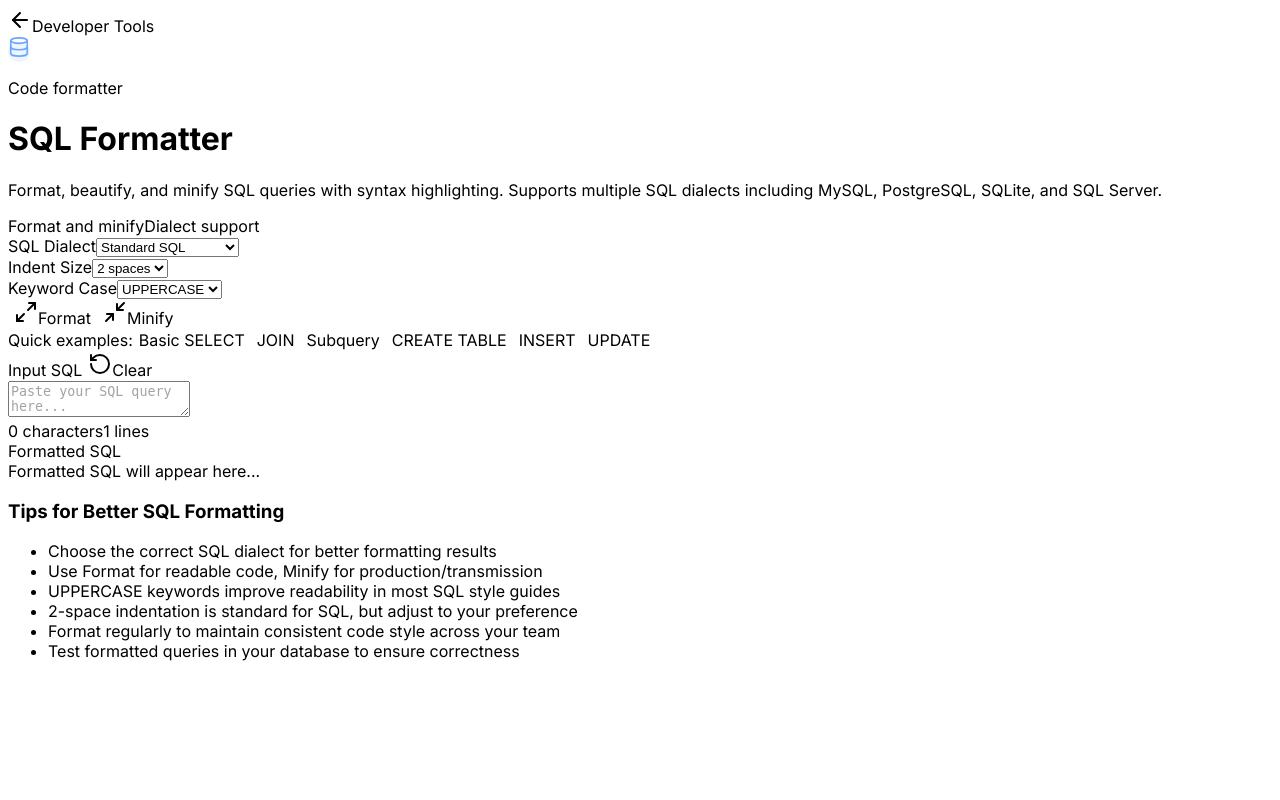
Test: SQLFormatterPage › Minify SQL › displays error message for empty minify input
This screenshot has width=1280, height=800.
Click the button "Minify": [138, 314] box [97,299,180,329]
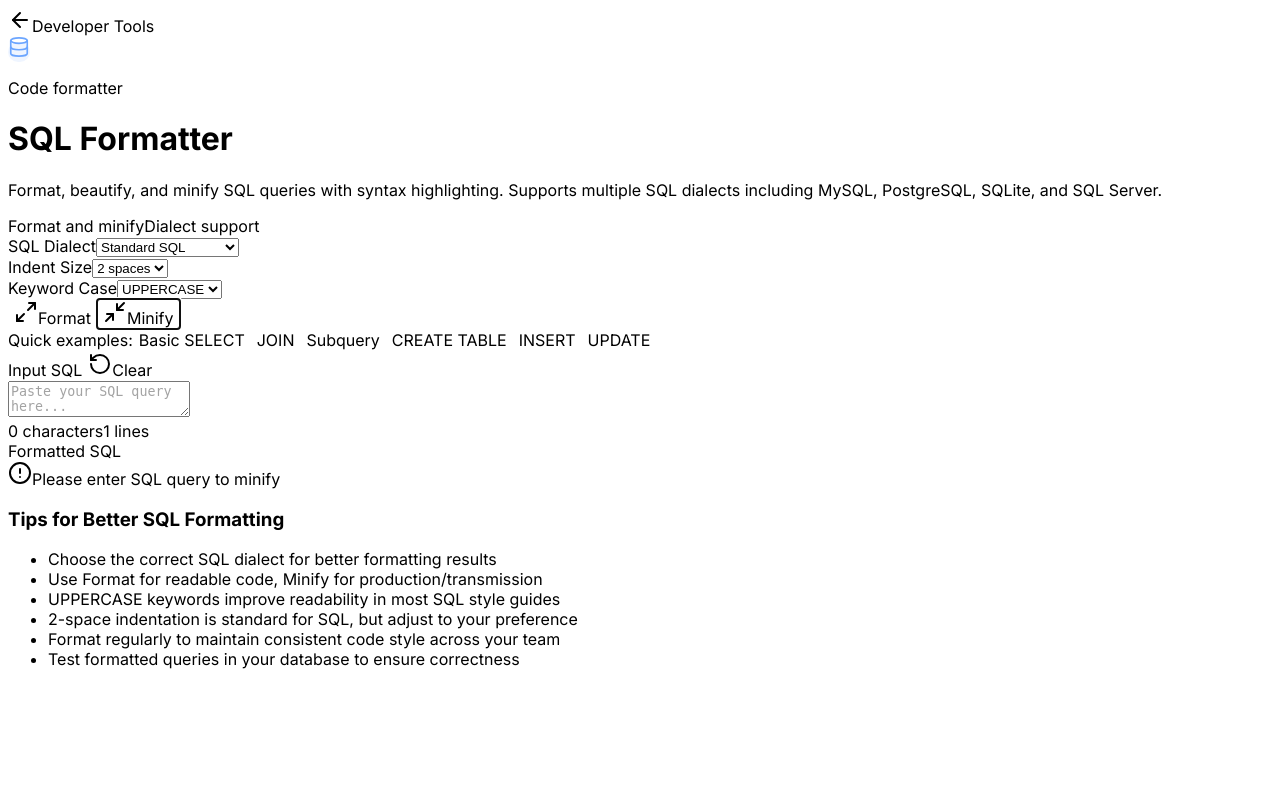
Expected: the text "Please enter SQL query to minify" is shown, [32,469,280,489]
